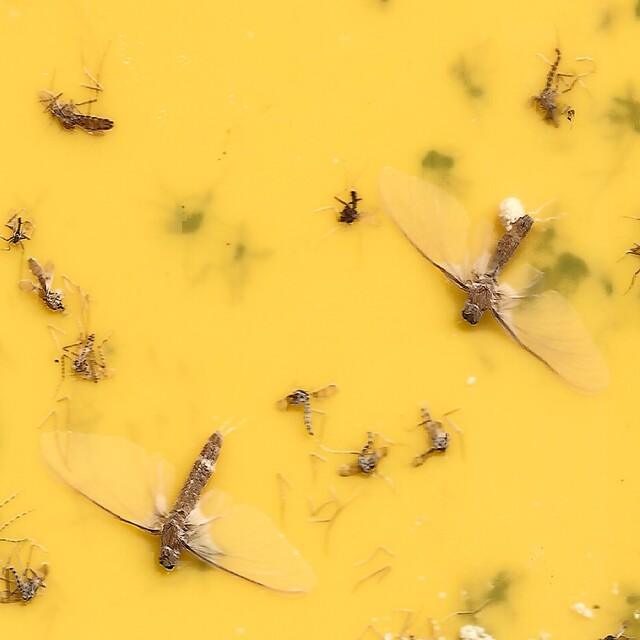Ephemeroptera: (380, 166, 602, 392), (38, 422, 319, 595)
Nematocera: (534, 45, 575, 125), (279, 386, 334, 438), (409, 406, 450, 470), (338, 432, 391, 478)
